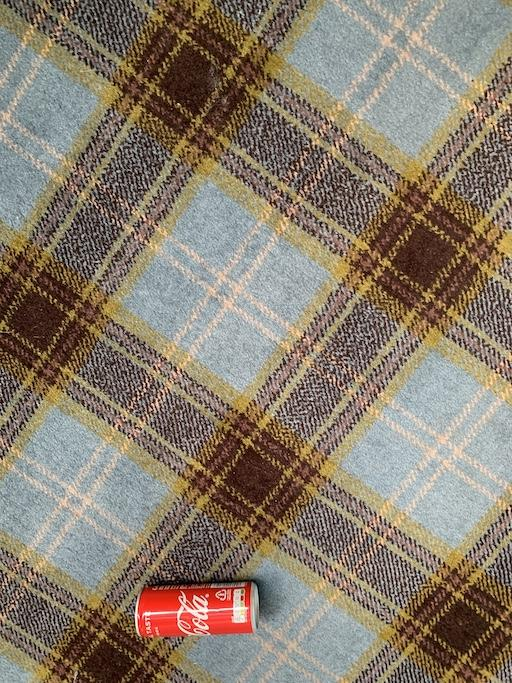Aluminum can: (108, 560, 298, 665)
